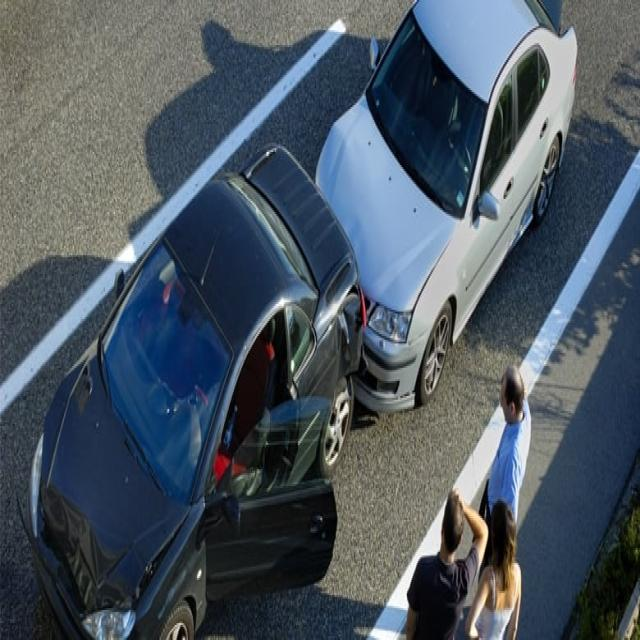crush: (15, 477, 190, 623), (316, 99, 392, 298), (336, 280, 367, 391)
